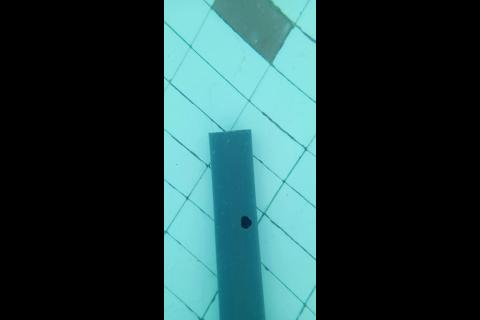kebocoran: (239, 214, 252, 228)
